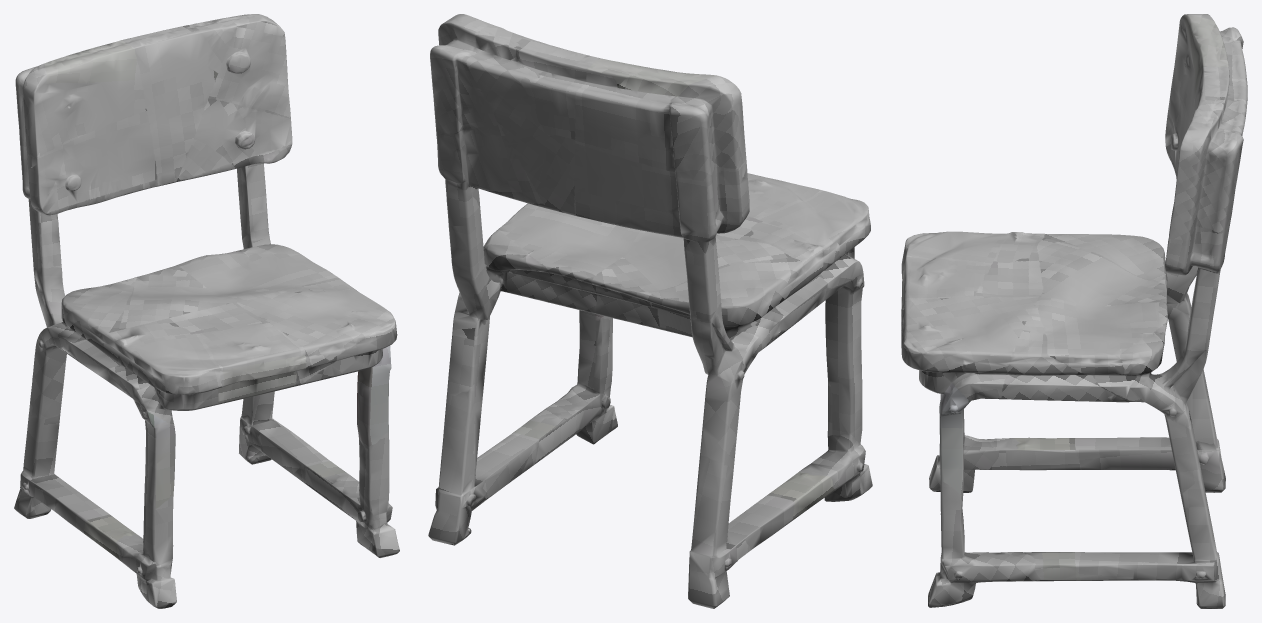
Rendered from l_chair.glb.
3 views of the same model, side by side, from view 1: azimuth 30°, elevation 25°; view 2: azimuth 150°, elevation 25°; view 3: azimuth 270°, elevation 25° (orthographic). The views are drawn at different scales.
Parts seen in each view (by area): view 1: tripo_node_c051e291-6371-454c-aea7-c25f900e6384; view 2: tripo_node_c051e291-6371-454c-aea7-c25f900e6384; view 3: tripo_node_c051e291-6371-454c-aea7-c25f900e6384.
Part boxes in pixels (x1,y1,x2,y2): tripo_node_c051e291-6371-454c-aea7-c25f900e6384: (14,14,399,608); tripo_node_c051e291-6371-454c-aea7-c25f900e6384: (428,14,872,608); tripo_node_c051e291-6371-454c-aea7-c25f900e6384: (901,14,1247,608).
Size of the model in its own units: 0.5991 by 0.9996 by 0.6606.
1 material, 1 textured.
